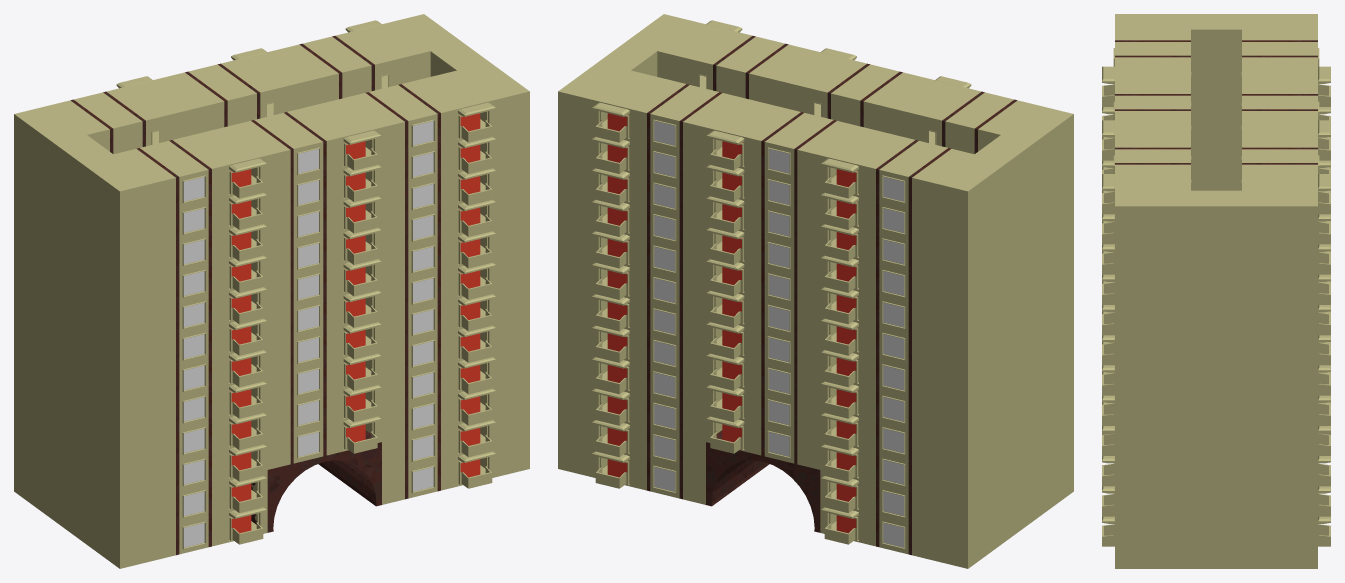
Rendered from ApartmentNoFurniture.fbx.
3 renders of one model, left to right at view 1: azimuth 30°, elevation 25°; view 2: azimuth 150°, elevation 25°; view 3: azimuth 270°, elevation 25°, orthographic. The views are drawn at different scales.
Visible parts, largest first — view 1: Corridor.001, Cube.003, Corridor.002, Cube.004, Floor.060, Floor.066, Floor.057, Floor.063, Floor.054, Floor.051, Cube.002, Floor.062 (+32 smaller); view 2: Cube.003, Corridor.001, Cube.005, Cube.004, Floor.054, Floor.051, Floor.063, Floor.060, Floor.066, Floor.057, Floor.036, Floor.056 (+32 smaller); view 3: Corridor.002, Cube.005, Cube.006, Cube.004, Floor.051, Floor.057, Floor.063, Floor.066, Floor.054, Floor.060, Corridor.001, Cube.003 (+22 smaller).
Boxes of the visible parts, x1,y1,x2,y2 form: Corridor.001: (80,154,152,568); Cube.003: (14,106,86,519); Corridor.002: (457,62,529,476); Cube.004: (53,135,112,539); Floor.060: (343,70,496,158); Floor.066: (228,98,381,186); Floor.057: (114,126,267,214); Floor.063: (162,48,315,132); Floor.054: (277,20,430,104); Floor.051: (48,76,201,154); Cube.002: (251,430,381,532); Floor.062: (365,151,496,221); Cube.003: (935,154,1007,568); Corridor.001: (1001,106,1073,519); Cube.005: (558,62,630,476); Cube.004: (975,135,1034,539); Floor.054: (591,70,744,158); Floor.051: (820,126,973,214); Floor.063: (706,98,859,186); Floor.060: (657,20,810,104); Floor.066: (772,48,925,132); Floor.057: (886,76,1039,154); Floor.036: (591,182,722,253); Floor.056: (591,151,722,221); Corridor.002: (1115,190,1190,568); Cube.005: (1242,190,1317,568); Cube.006: (1191,190,1241,568); Cube.004: (1191,14,1241,190); Floor.051: (1241,29,1330,106); Floor.057: (1102,29,1191,106); Floor.063: (1241,83,1330,160); Floor.066: (1102,83,1191,160); Floor.054: (1241,137,1330,214); Floor.060: (1102,137,1191,214); Corridor.001: (1115,14,1190,29); Cube.003: (1242,14,1317,29).
Size of the model in its own units: 179 by 158 by 90.
